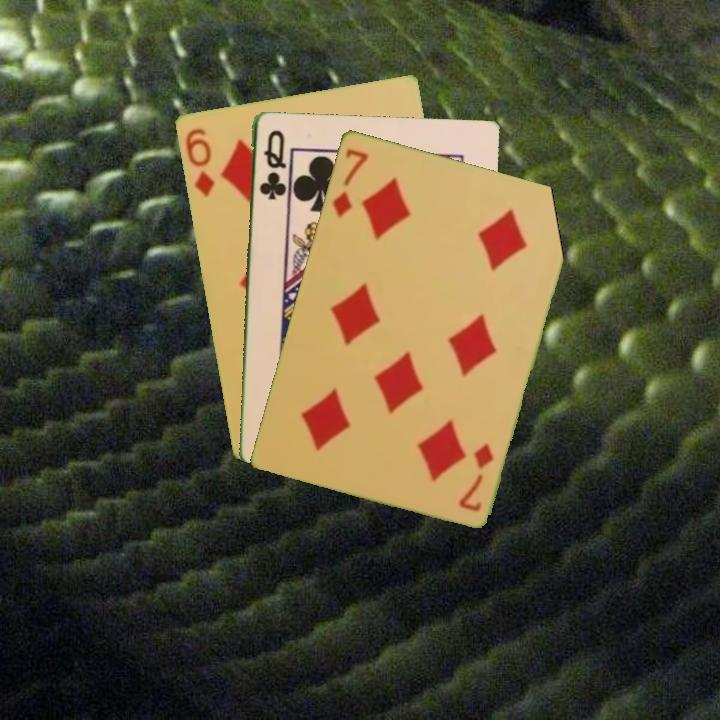6d: (181, 124, 217, 199)
7d: (328, 144, 371, 220), (455, 439, 496, 514)
Qc: (255, 125, 288, 203)
